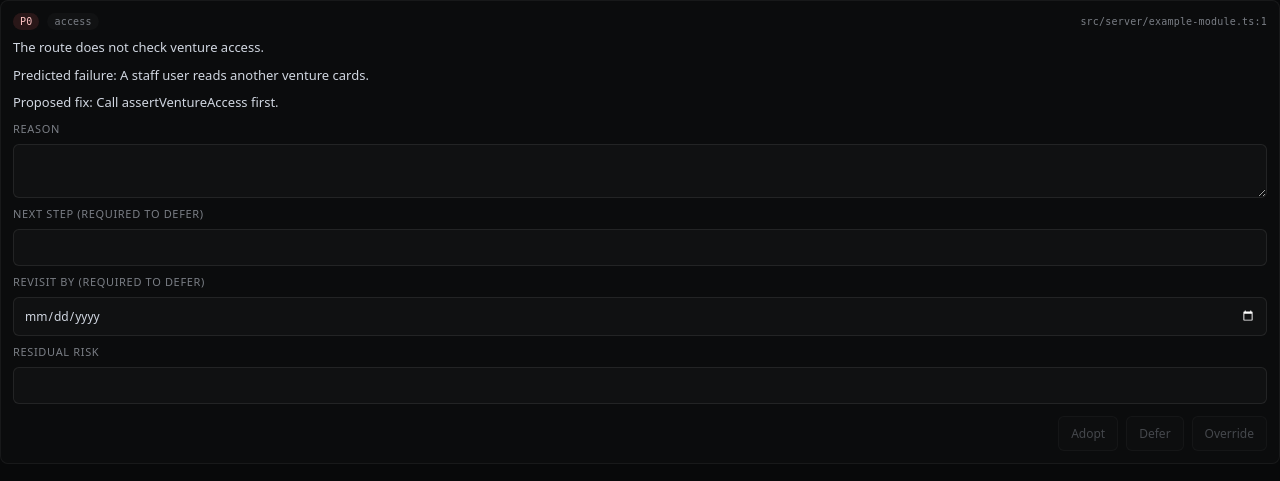
it: the findings panel › never disables the three outcomes on its own guess about which is allowed
Expected: the text "The route does not check venture access." is shown, [13,38,264,56]
Type "It goes to the owner." into the text box labelled "Reason". click: (640, 170)
box: [13,144,1267,198]
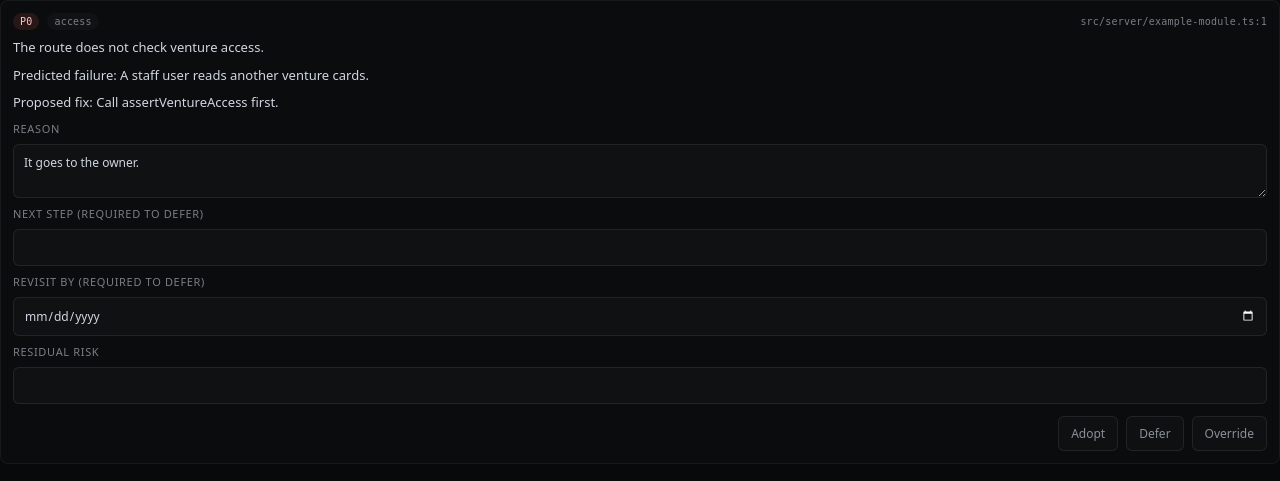
Result: the button "Override" is enabled at [1192,416,1267,450]
